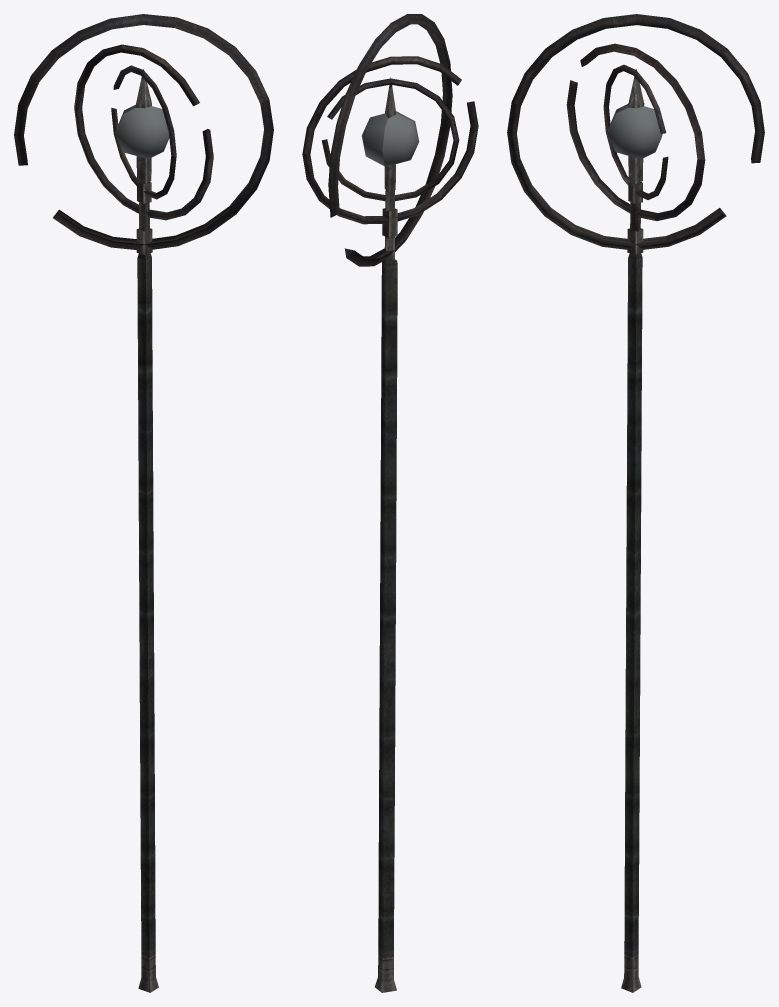
The model's file is so_pd_sunsetstaff.glb.
3 renders of one model, left to right at view 1: azimuth 90°, elevation 25°; view 2: azimuth 150°, elevation 25°; view 3: azimuth 270°, elevation 25°, orthographic.
Parts seen in each view (by area): view 1: mesh_313.001; view 2: mesh_313.001; view 3: mesh_313.001.
Part boxes in pixels (x1=…): mesh_313.001: x1=14, y1=14, x2=273, y2=992; mesh_313.001: x1=302, y1=14, x2=478, y2=992; mesh_313.001: x1=507, y1=14, x2=764, y2=992.
Bounding box in the file's own units: 13.9 × 120 × 29.01.
1 material, 1 textured.
